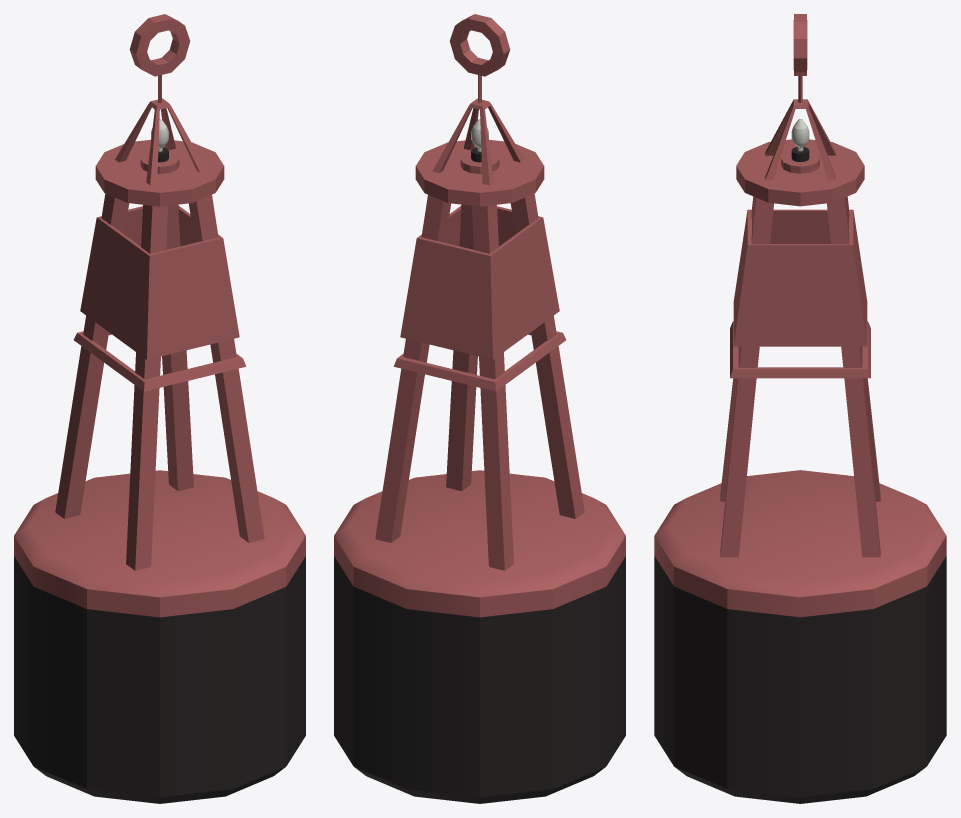
Rendered from Buoys_Circulo.fbx.
3 views of the same model, side by side, from view 1: azimuth 30°, elevation 25°; view 2: azimuth 150°, elevation 25°; view 3: azimuth 270°, elevation 25° (orthographic).
Parts seen in each view (by area): view 1: BuoyPe, BuoyApoio2, BuoyApoio, BuoyCirculo; view 2: BuoyPe, BuoyApoio2, BuoyApoio, BuoyCirculo; view 3: BuoyPe, BuoyApoio2, BuoyApoio, BuoyCirculo.
Part boxes in pixels (box(x1,y1,x2,y2)): BuoyPe: box(14, 470, 305, 803); BuoyApoio2: box(73, 139, 246, 391); BuoyApoio: box(55, 98, 264, 570); BuoyCirculo: box(129, 14, 190, 76); BuoyPe: box(334, 470, 625, 803); BuoyApoio2: box(393, 139, 566, 391); BuoyApoio: box(375, 98, 584, 570); BuoyCirculo: box(449, 14, 510, 76); BuoyPe: box(654, 470, 946, 803); BuoyApoio2: box(730, 139, 870, 378); BuoyApoio: box(720, 99, 880, 557); BuoyCirculo: box(793, 14, 807, 75).
Bounding box in the file's own units: 1.59 × 4.39 × 1.59.
